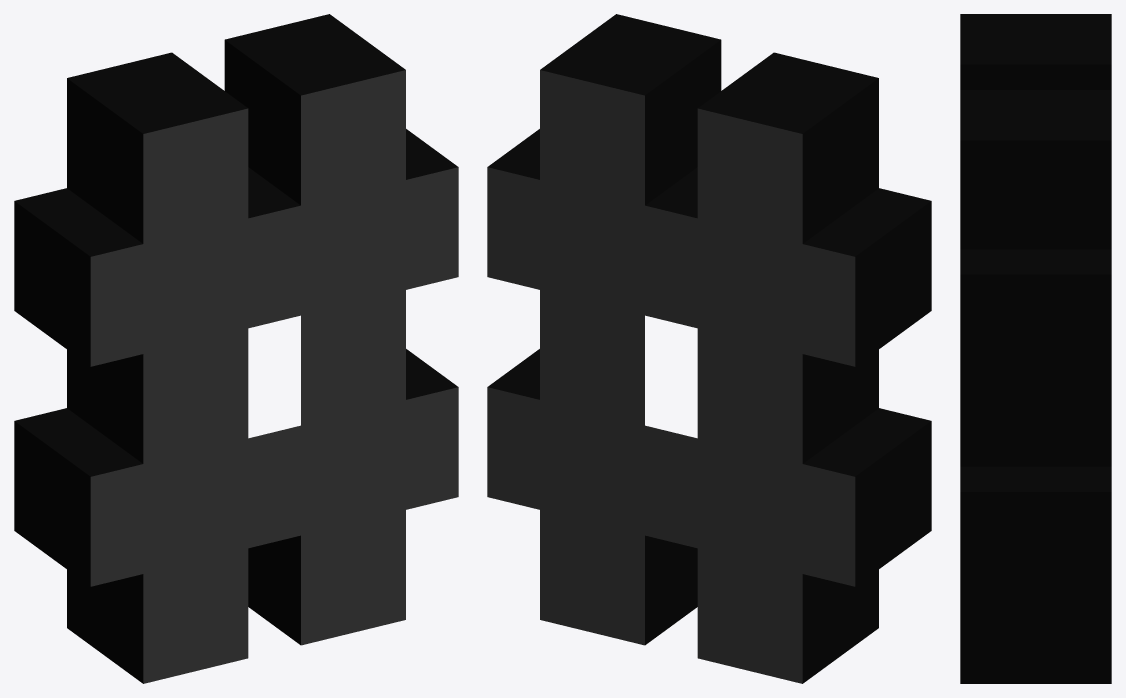
3 views of the same model, side by side, from view 1: azimuth 30°, elevation 25°; view 2: azimuth 150°, elevation 25°; view 3: azimuth 270°, elevation 25° (orthographic).
Visible parts, largest first — view 1: #_DeltaBlock_Black; view 2: #_DeltaBlock_Black; view 3: #_DeltaBlock_Black.
Boxes of the visible parts, <box> form: #_DeltaBlock_Black: <box>14,14,458,683</box>; #_DeltaBlock_Black: <box>487,14,931,683</box>; #_DeltaBlock_Black: <box>960,14,1111,683</box>.
Size of what is drawn, in the model's own units: 0.125 by 0.1786 by 0.045.
Materials: 2 (2 with a texture image).
